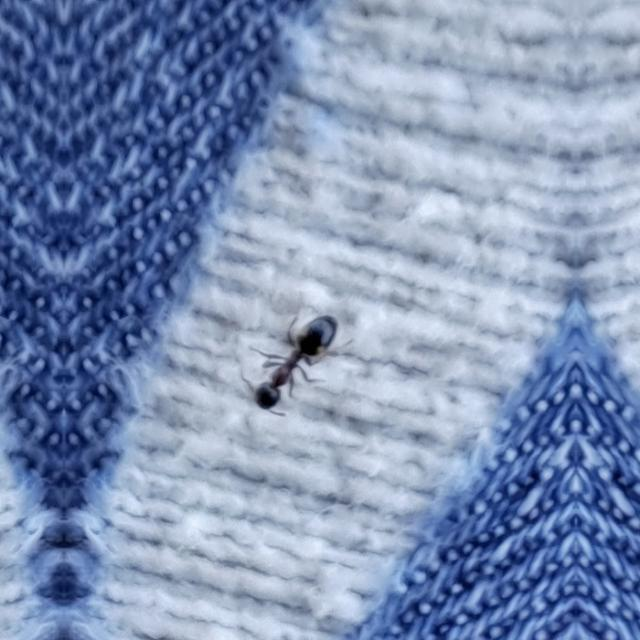Dolichoderus: (236, 288, 352, 424)
